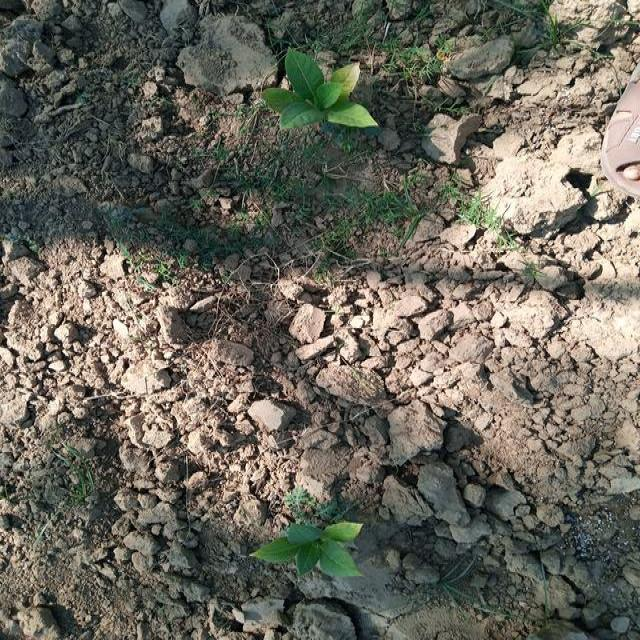crop: (260, 48, 379, 130), (252, 516, 362, 582)
